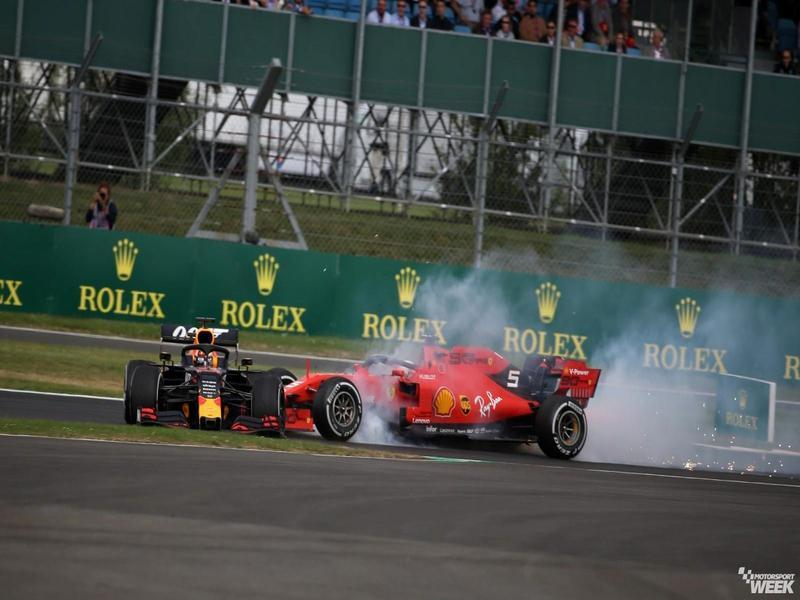f1: (339, 315, 622, 482), (120, 313, 357, 450)
